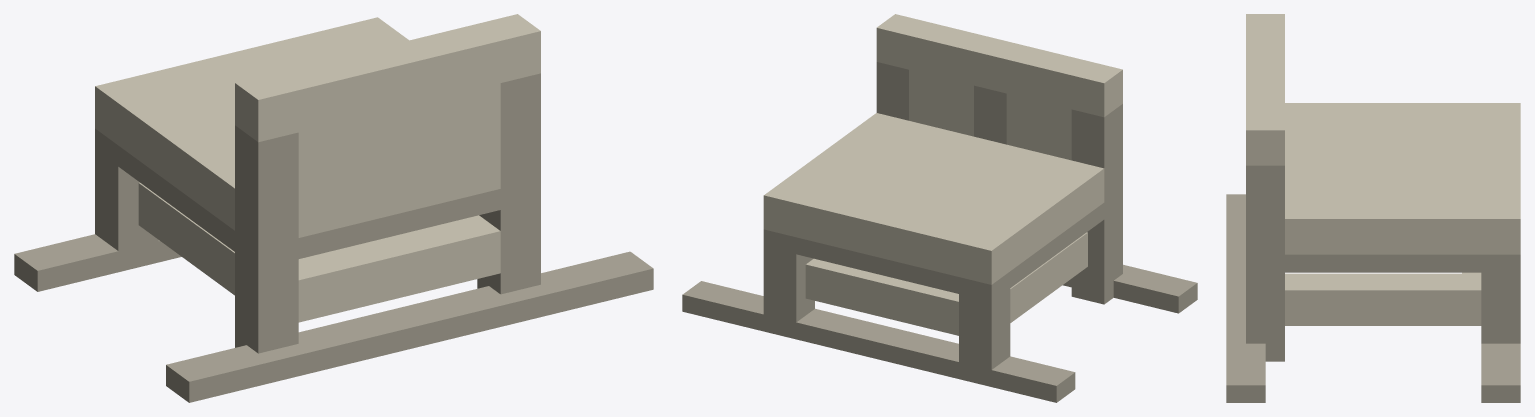
The model's file is mecedora_abedul_01.glb.
3 views of the same model, side by side, from view 1: azimuth 30°, elevation 25°; view 2: azimuth 150°, elevation 25°; view 3: azimuth 270°, elevation 25° (orthographic). The views are drawn at different scales.
Visible parts, largest first — view 1: mecedora_abedul; view 2: mecedora_abedul; view 3: mecedora_abedul.
Boxes of the visible parts, x1,y1,x2,y2 form: mecedora_abedul: (14, 14, 653, 402); mecedora_abedul: (682, 14, 1197, 402); mecedora_abedul: (1226, 14, 1520, 402).
Bounding box in the file's own units: 1.64 × 0.9286 × 1.07.
